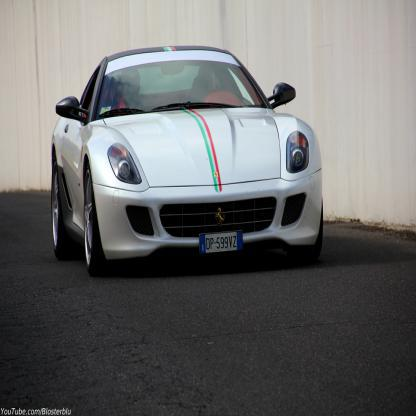car: (46, 40, 322, 272)
